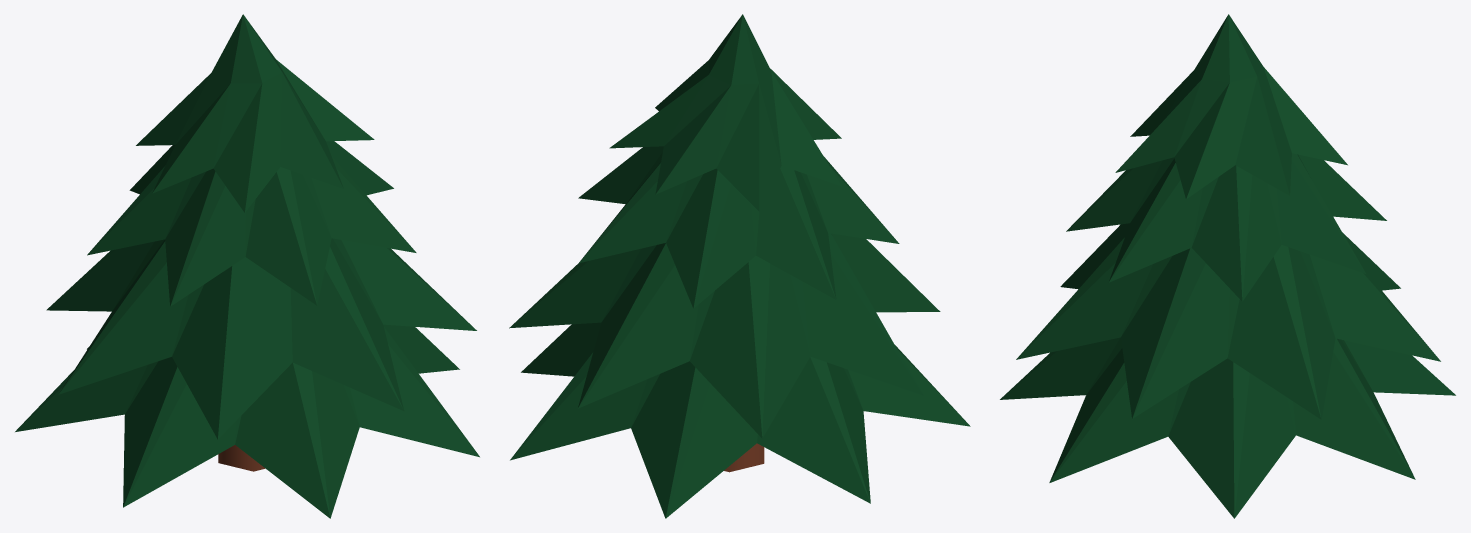
File: PineTree.FBX
The picture shows the model from 3 angles, left to right: view 1: azimuth 30°, elevation 25°; view 2: azimuth 150°, elevation 25°; view 3: azimuth 270°, elevation 25°; orthographic projection. The views are drawn at different scales.
Visible parts, largest first — view 1: Leaves; view 2: Leaves; view 3: Leaves.
Boxes of the visible parts, x1,y1,x2,y2 form: Leaves: (15,14,479,518); Leaves: (509,14,970,518); Leaves: (1000,14,1455,518).
Bounding box in the file's own units: 172 × 181 × 174.
